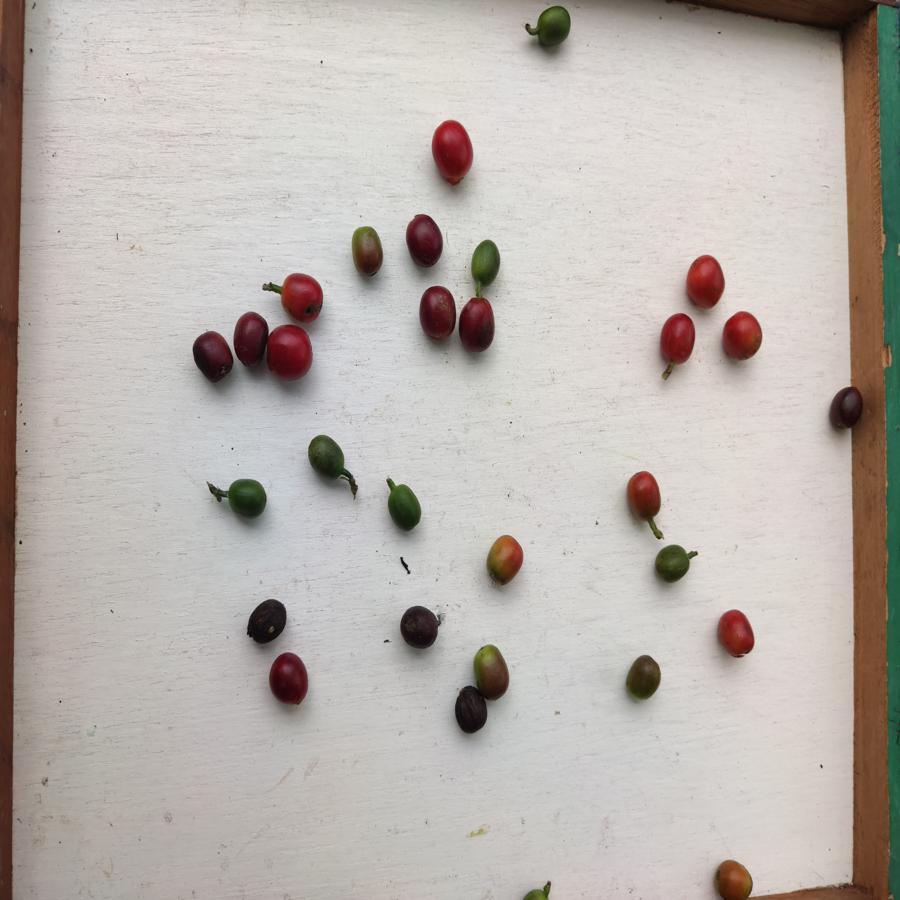Inmaduro: (305, 432, 350, 487), (385, 479, 424, 531), (223, 476, 267, 522), (652, 542, 692, 586), (533, 3, 572, 48), (469, 239, 503, 289)
Maduro: (431, 119, 476, 186), (263, 323, 315, 378), (278, 272, 327, 325), (684, 253, 725, 312), (720, 307, 765, 360), (714, 607, 758, 661), (659, 311, 702, 362), (628, 470, 668, 521)
Pinton: (483, 530, 526, 586), (622, 654, 666, 702), (350, 223, 386, 281), (474, 641, 511, 697), (713, 856, 755, 900)
Sobremaduro: (269, 649, 310, 707), (458, 293, 496, 354), (404, 214, 445, 269), (193, 327, 231, 385), (233, 310, 267, 374), (418, 284, 456, 341), (400, 605, 442, 652), (245, 599, 290, 642), (453, 685, 488, 737), (829, 386, 867, 432)
